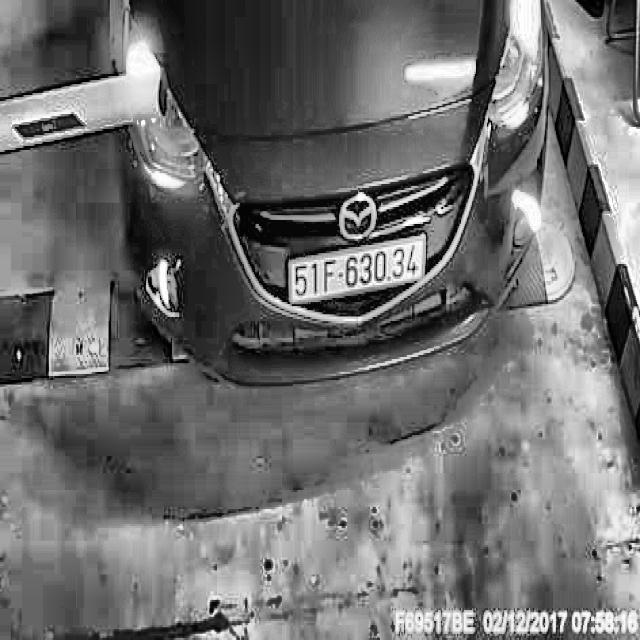plate: (286, 228, 430, 310)
